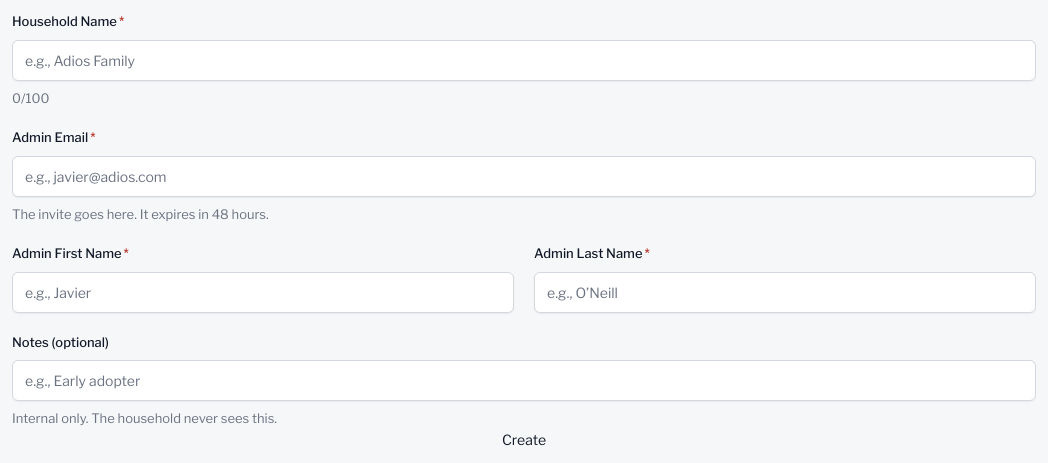
Test: CreateHouseholdForm › shows validation error for invalid email
Step 1. Type "invalid-email" into the field labelled "Admin Email*" → (524, 176), box [12,156,1036,196]
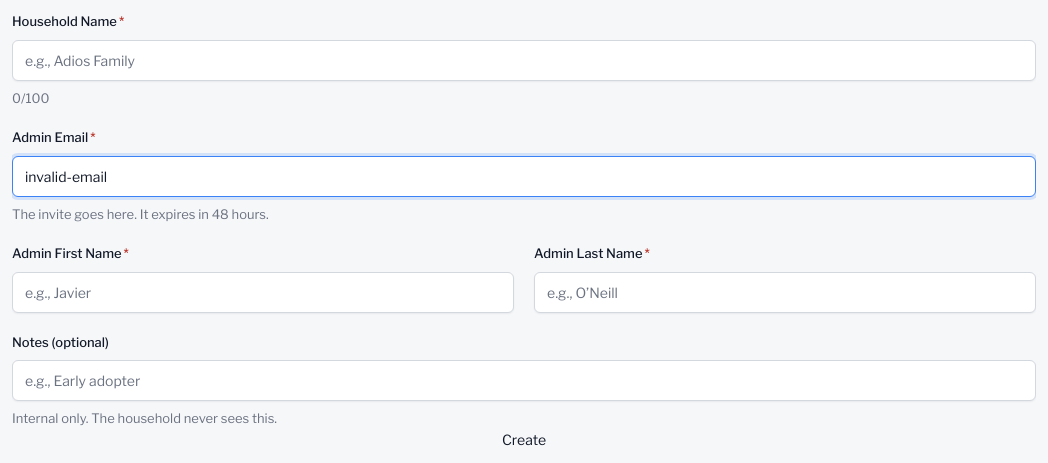
Step 2. Press Tab
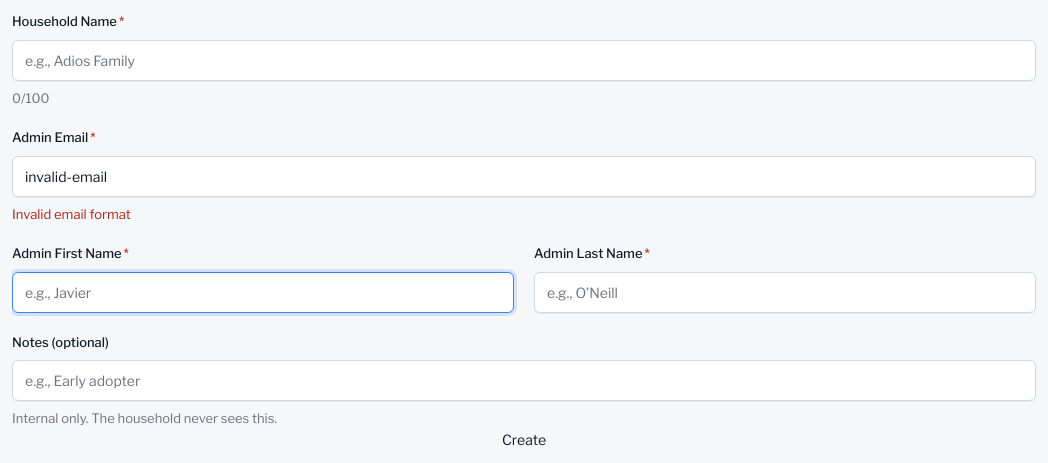
Now the text "Invalid email format" is shown, box [12,206,131,222]
